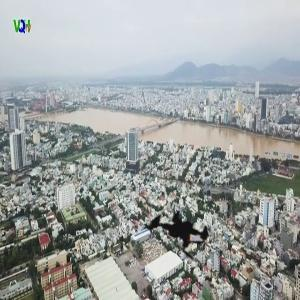drone: (129, 188, 227, 286)
